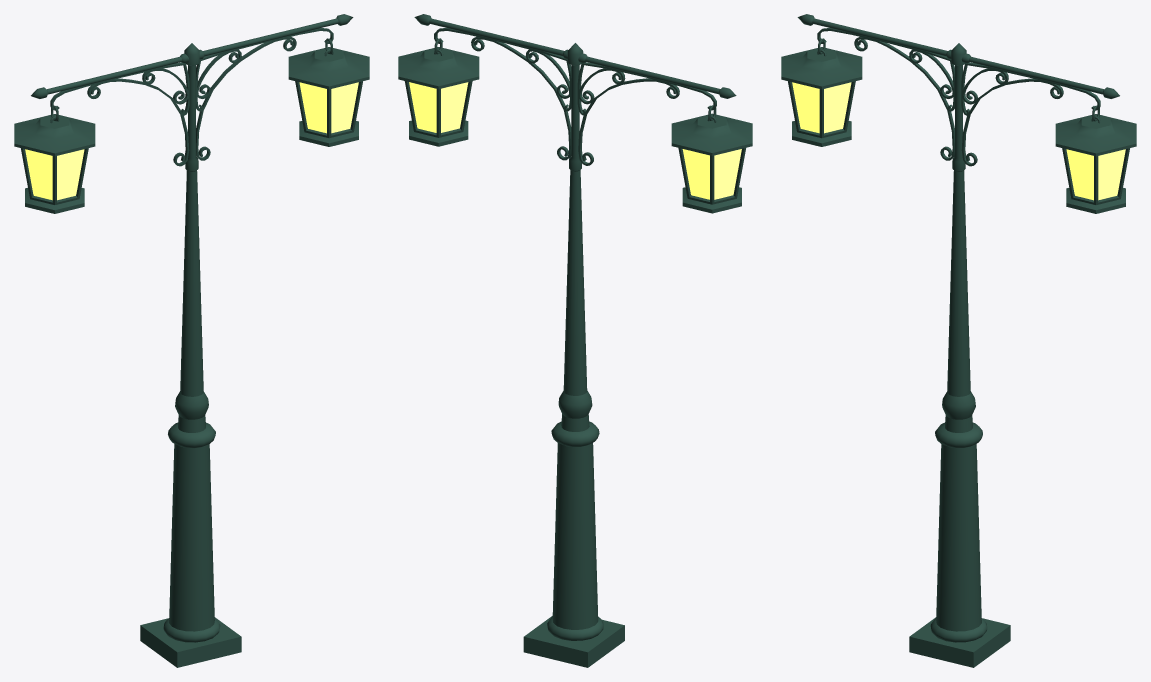
File: Street_Vintage_T_OrnamentalSupport.fbx
The picture shows the model from 3 angles, left to right: view 1: azimuth 30°, elevation 25°; view 2: azimuth 150°, elevation 25°; view 3: azimuth 330°, elevation 25°; orthographic projection.
Visible parts, largest first — view 1: Street_Vintage_T_OrnamentalSupport_LOD0; view 2: Street_Vintage_T_OrnamentalSupport_LOD0; view 3: Street_Vintage_T_OrnamentalSupport_LOD0.
Boxes of the visible parts, x1,y1,x2,y2 form: Street_Vintage_T_OrnamentalSupport_LOD0: [14, 14, 369, 667]; Street_Vintage_T_OrnamentalSupport_LOD0: [398, 14, 752, 667]; Street_Vintage_T_OrnamentalSupport_LOD0: [781, 14, 1136, 667].
Size of what is drawn, in the model's own units: 233 by 379 by 46.17.
